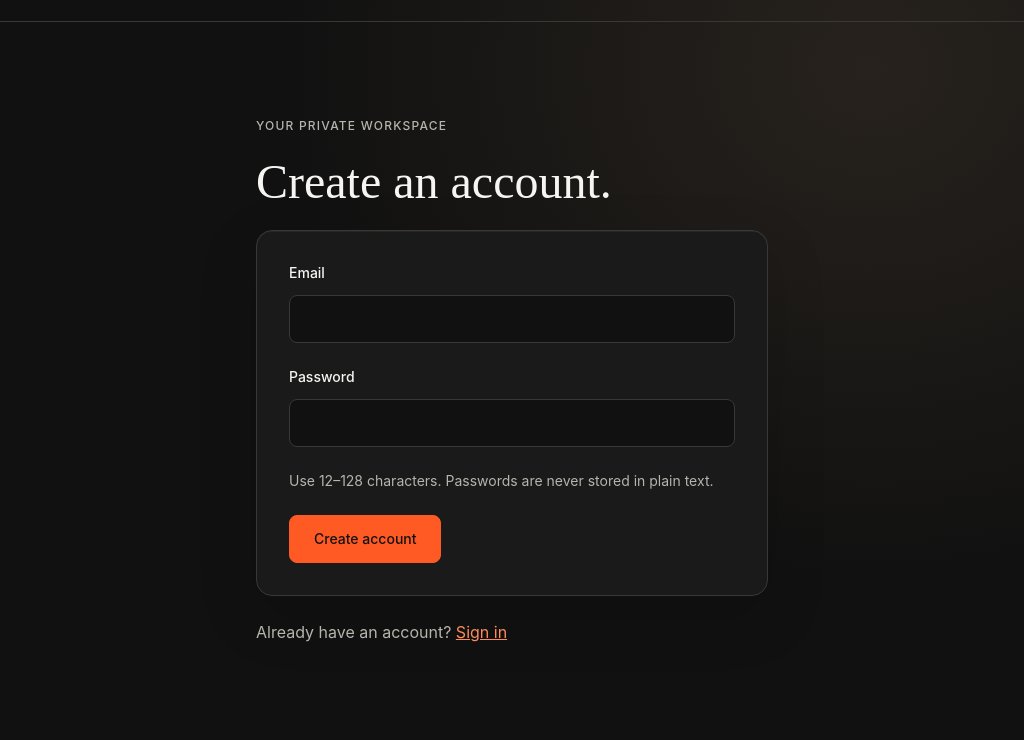
Test: authentication and project flows › submits register credentials and enters the workspace
This screenshot has width=1024, height=740.
(page scrolled)
Expected: the button "Create account" is enabled, x1=289 y1=515 x2=442 y2=563
Type "alice@example.com" into the field labelled "Email" at (512, 319), box x1=289 y1=295 x2=735 y2=343
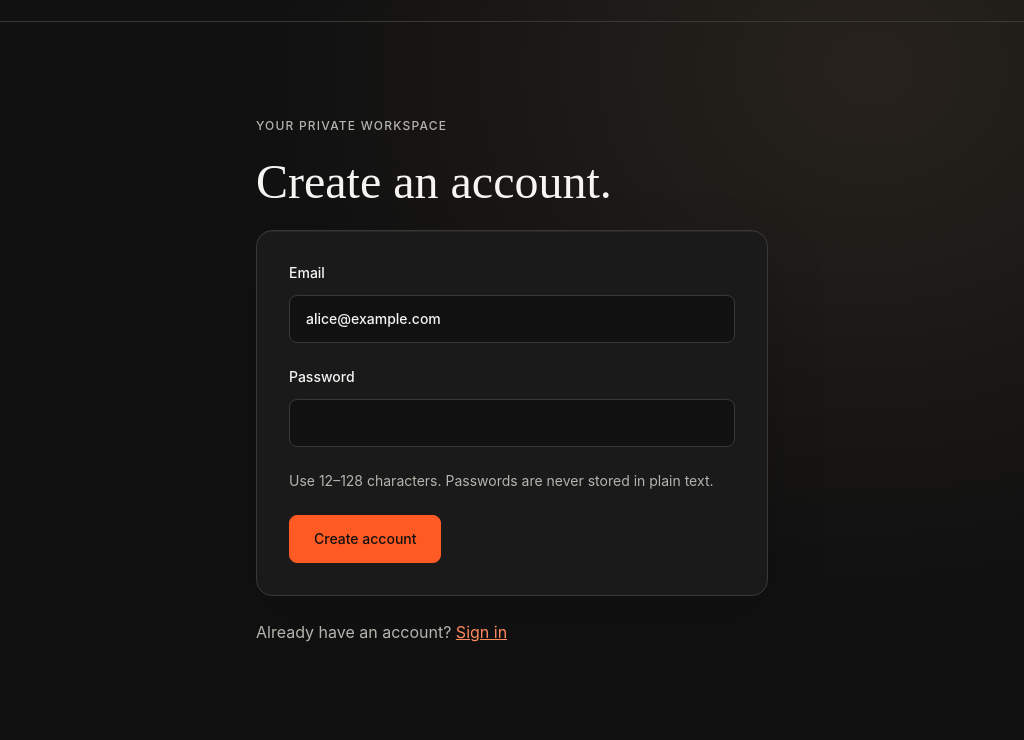
Type "correct horse battery staple" into the password field labelled "Password" at (512, 423), box x1=289 y1=399 x2=735 y2=447
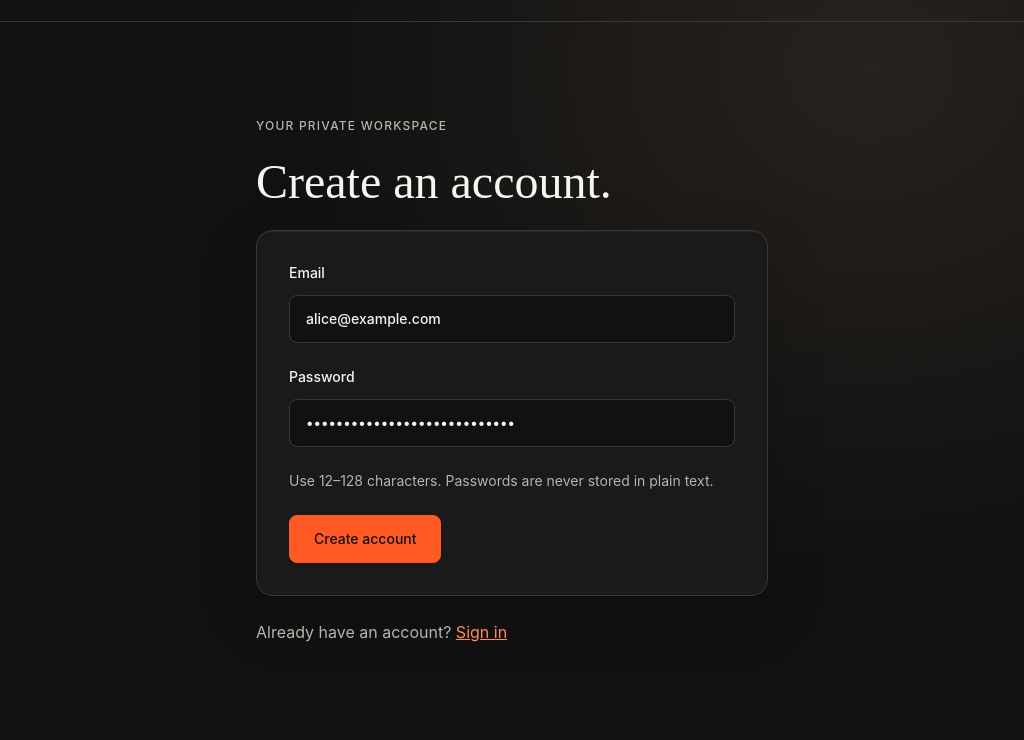
Click the button "Create account" at (365, 539), box x1=289 y1=515 x2=442 y2=563
(page scrolled)
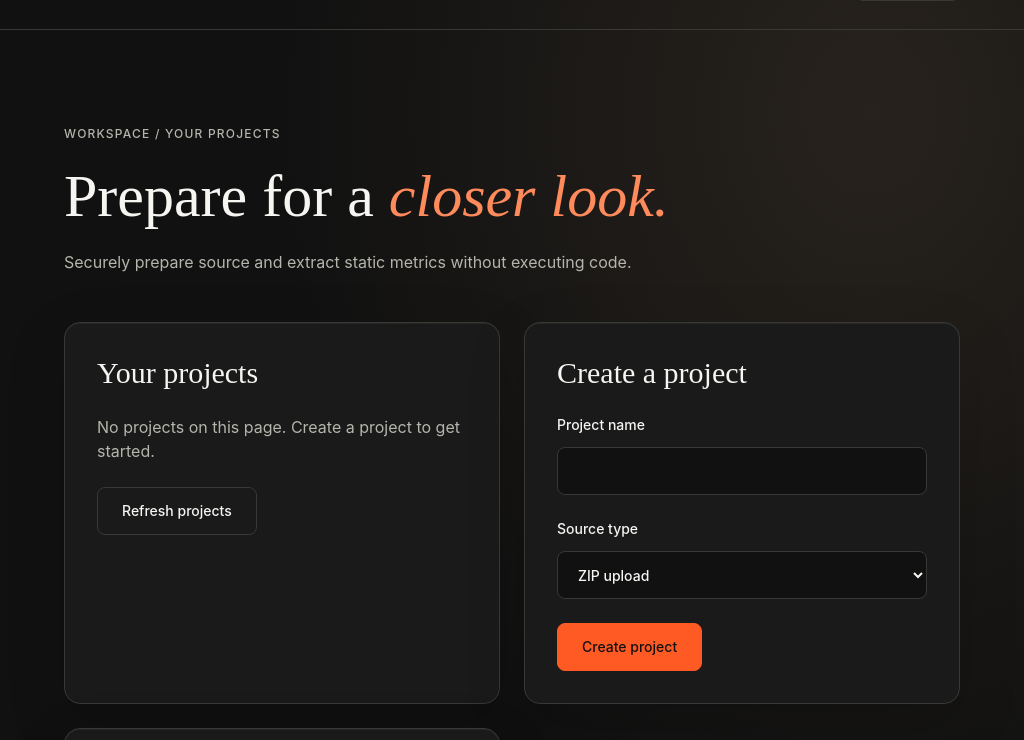
Expected: the text "No projects on this page. Create a project to get started." is shown, x1=97 y1=415 x2=467 y2=463
